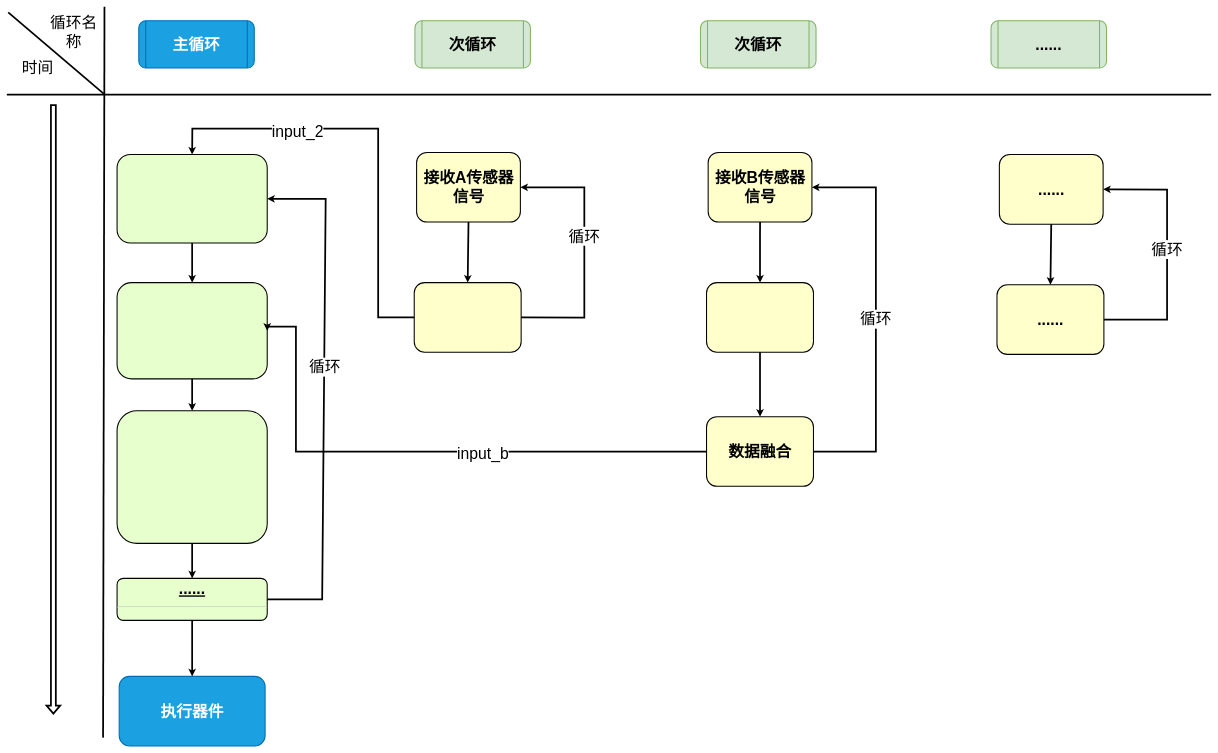
Some shapes in this 1218 by 753 pixel diagram are drawn without their labels. The box of each missing label's shape, as (x1, y1, x2, y2) in pixels:
数据平滑: (706, 282, 814, 353)
校验: (414, 282, 522, 353)
模块一 输入量：input_1 input_2 算法A 输出量：output_1 output_2: (116, 154, 268, 243)
模块三 输入量：input_5 input_6 算法C 输出量：output_5 output_6: (116, 410, 268, 544)
模块二 输入量：input_3 input_4 input_b 算法B 输出量：output_3 output_4: (116, 282, 268, 379)
